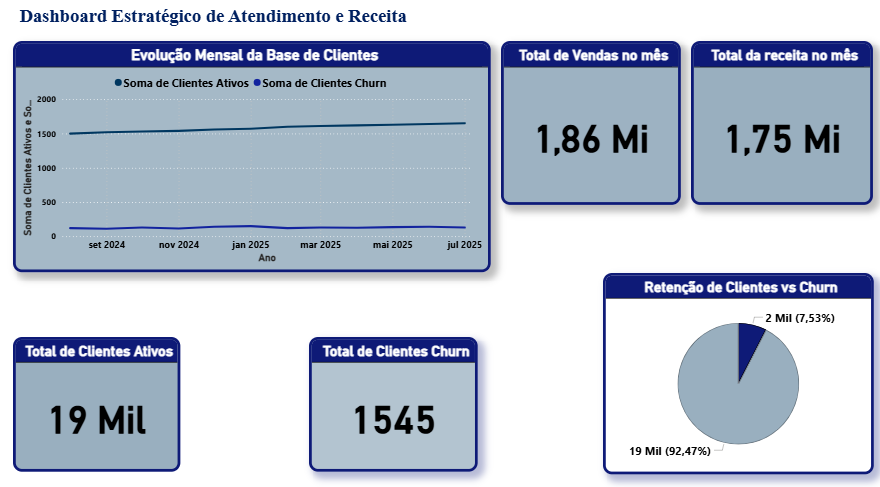

This screenshot's page, from the dashboard's own definition file:
{"tool":"powerbi","page":{"name":"Página 1","canvas":[1280,720],"ordinal":0},"visuals":[{"type":"card","title":"Total de Vendas no mês","fields":{"Values":["Sum(Table_1 (2).Vendas (R$))"]},"box":[724.6,69.6,259.4,236.2],"z":0},{"type":"card","title":"Total da receita no mês","fields":{"Values":["Sum(Table_1 (2).Receita (R$))"]},"box":[998.6,69.6,262.3,236.2],"z":1000},{"type":"card","title":"Total de Clientes Churn","fields":{"Values":["Sum(Table_1 (2).Clientes Churn)"]},"box":[447.8,495.7,243.5,194.2],"z":2000},{"type":"pieChart","title":"Retenção de Clientes vs Churn","fields":{"Y":["Sum(Table_1 (2).Clientes Churn)","Sum(Table_1 (2).Clientes Ativos)"]},"box":[871,402.9,389.9,289.9],"z":3000},{"type":"lineChart","title":"Evolução Mensal da Base de Clientes","fields":{"Y":["Sum(Table_1 (2).Clientes Ativos)","Sum(Table_1 (2).Clientes Churn)"],"Category":["Table_1 (2).Mês/Ano.Variation.Hierarquia de datas.Ano","Table_1 (2).Mês/Ano.Variation.Hierarquia de datas.Mês"]},"box":[21.7,69.6,688.4,333.3],"z":4000},{"type":"card","title":"Total de Clientes Ativos","fields":{"Values":["Sum(Table_1 (2).Clientes Ativos)"]},"box":[21.7,495.7,240.6,194.2],"z":5000},{"type":"textbox","box":[26.1,13,578.3,42],"z":5001}]}

Visuals, with their boxes in screenshot pixels (x1, y1, x2, y2), scaled from the page's 1280x720 canvas onto the 880x487 screenshot:
"Total de Vendas no mês" card: select_region(498, 47, 676, 207)
"Total da receita no mês" card: select_region(687, 47, 867, 207)
"Total de Clientes Churn" card: select_region(308, 335, 475, 467)
"Retenção de Clientes vs Churn" pieChart: select_region(599, 273, 867, 469)
"Evolução Mensal da Base de Clientes" lineChart: select_region(15, 47, 488, 273)
"Total de Clientes Ativos" card: select_region(15, 335, 180, 467)
textbox: select_region(18, 9, 416, 37)
